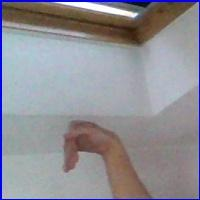del: (50, 107, 131, 185)
